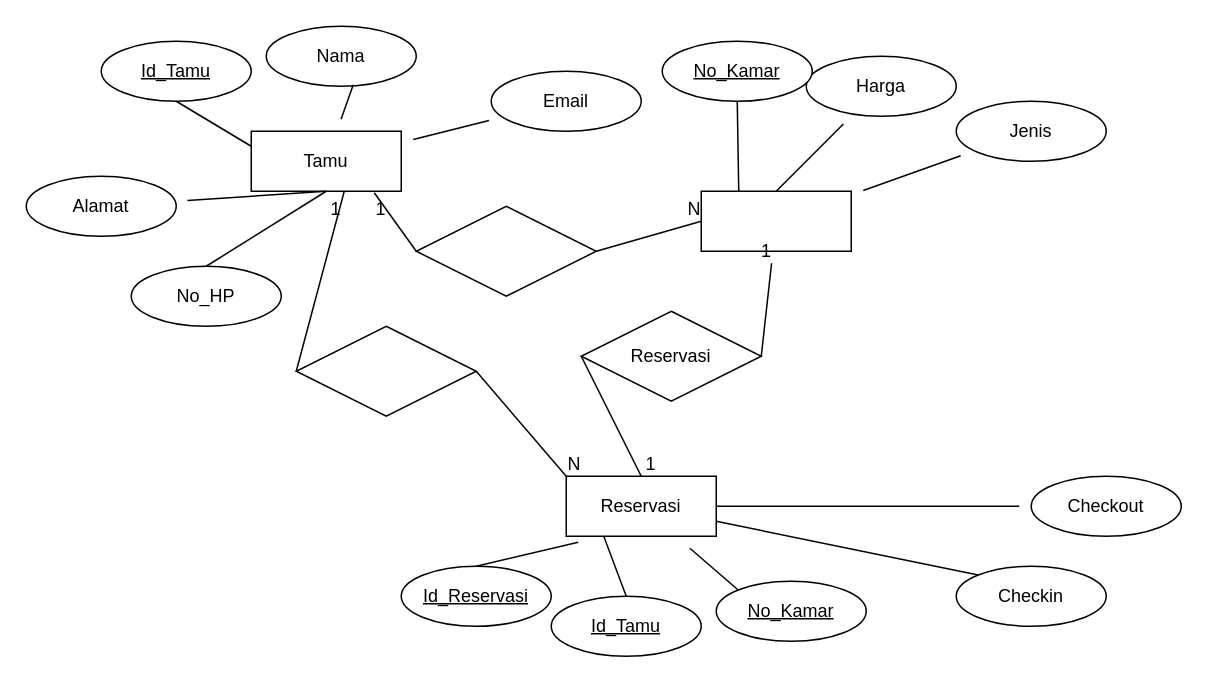
The diagram is 1208 pixels wide and 683 high, and some of its shapes have lost their labels. The box of each missing label's shape, as (x1, y1, x2, y2) in pixels:
Booking: (295, 325, 476, 416)
Kamar: (700, 190, 851, 251)
Request: (415, 205, 596, 296)
